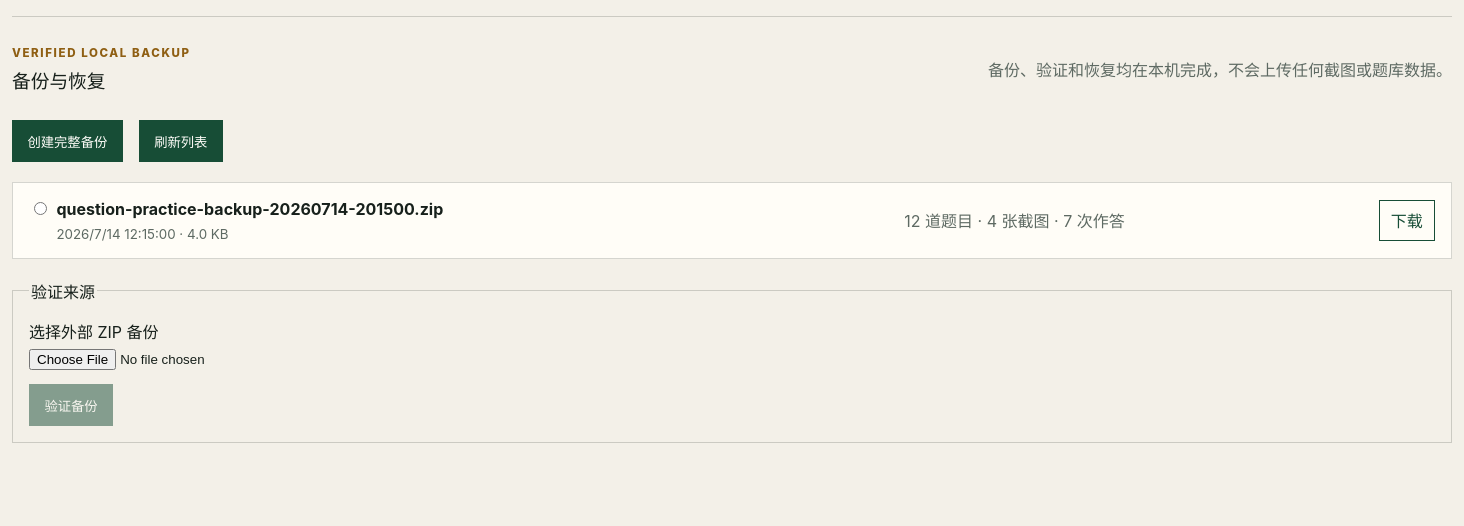
it: 备份与恢复工作区 › reports validation failure without fabricating a restore confirmation
The width and height of the screenshot is (1464, 526).
Click the radio button labelled "question-practice-backup-20260714-201500.zip" at (40, 209), box 34,202 -> 47,215
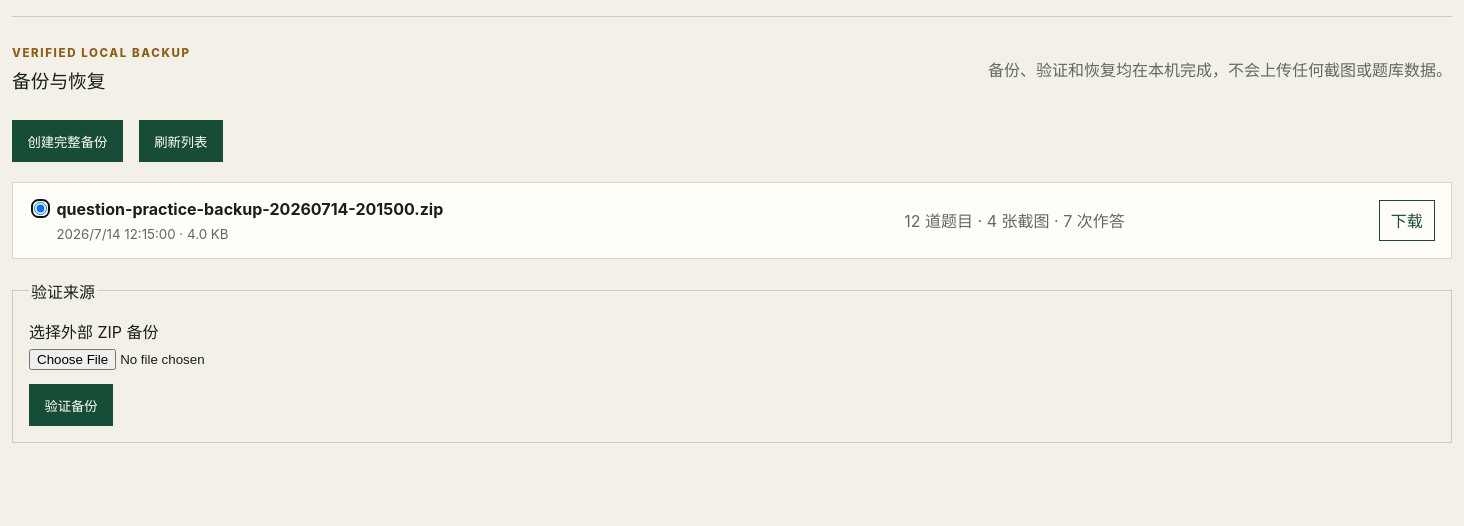
Click the button "验证备份" at (71, 405), box 29,384 -> 113,426
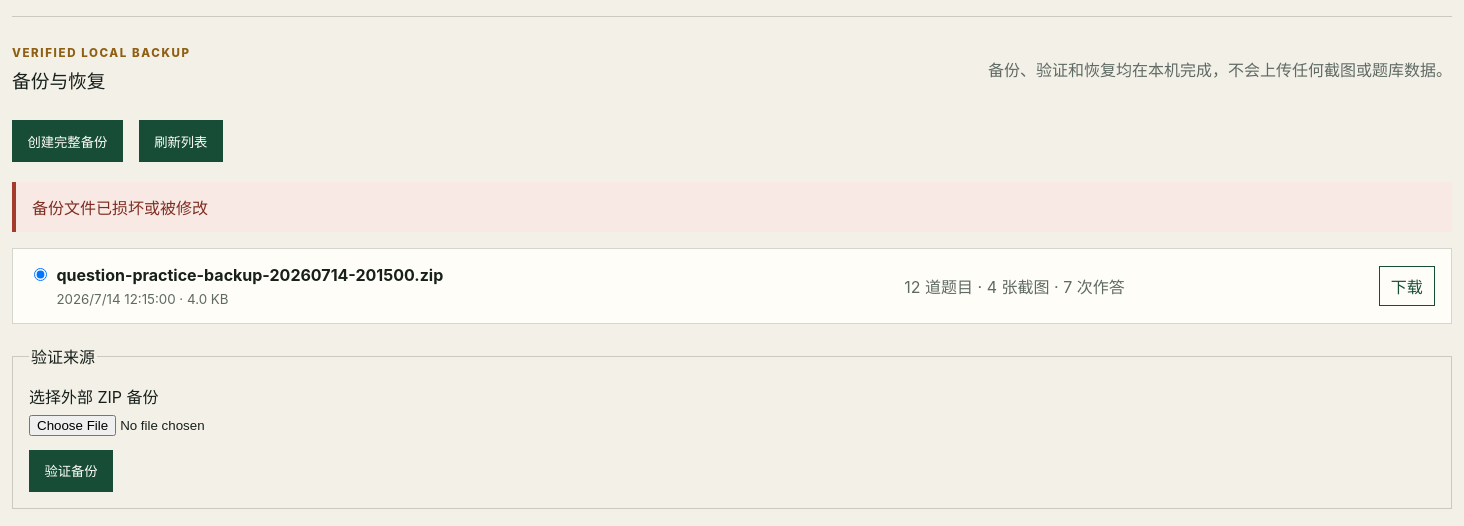
Now the message reads "备份文件已损坏或被修改", box 32,198 -> 208,218
